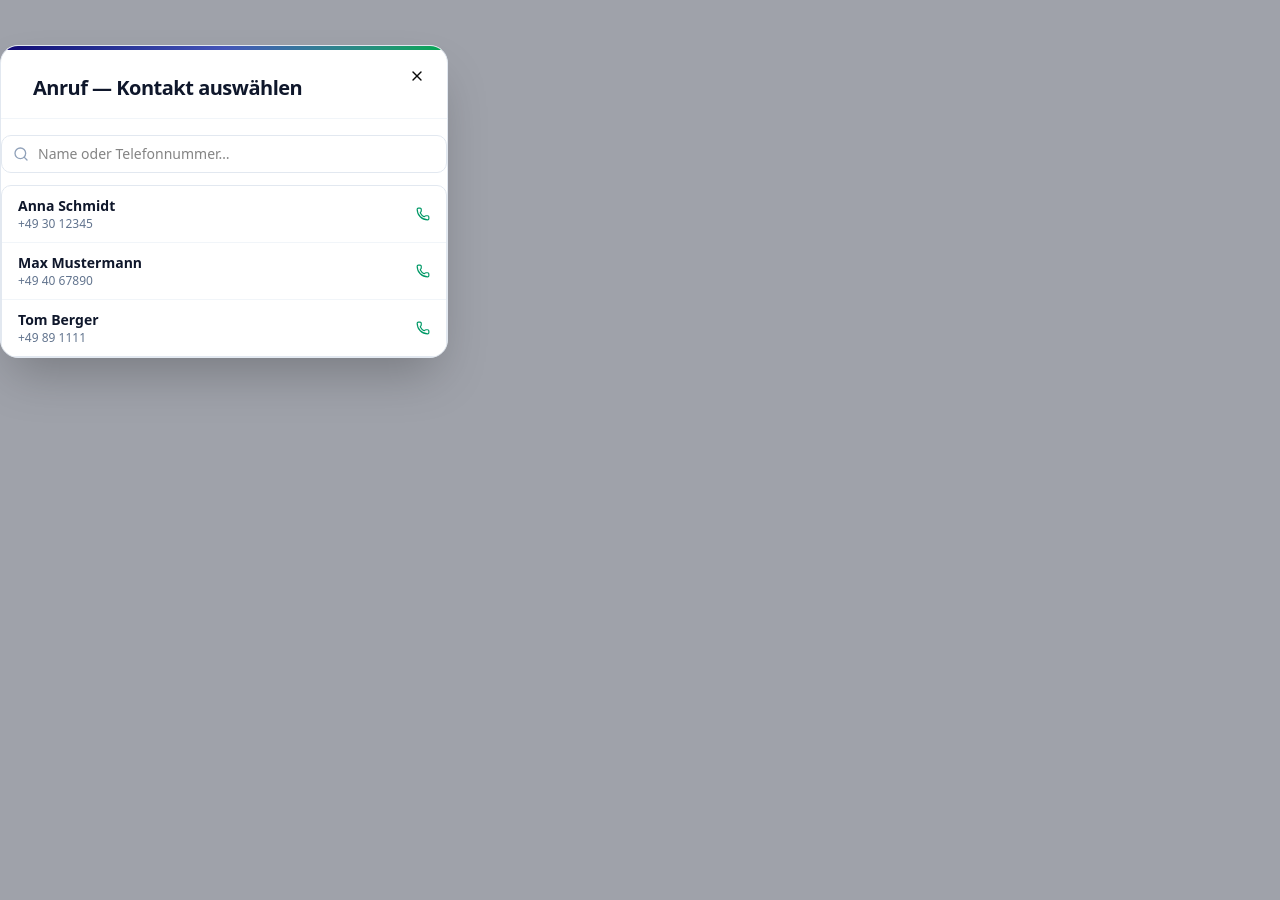
it: ContactPickerDialog › clears query on X-button click
The image size is (1280, 900).
Type "muster" into the field with test id "contact-picker-input" at (224, 154), box [1,135,447,173]
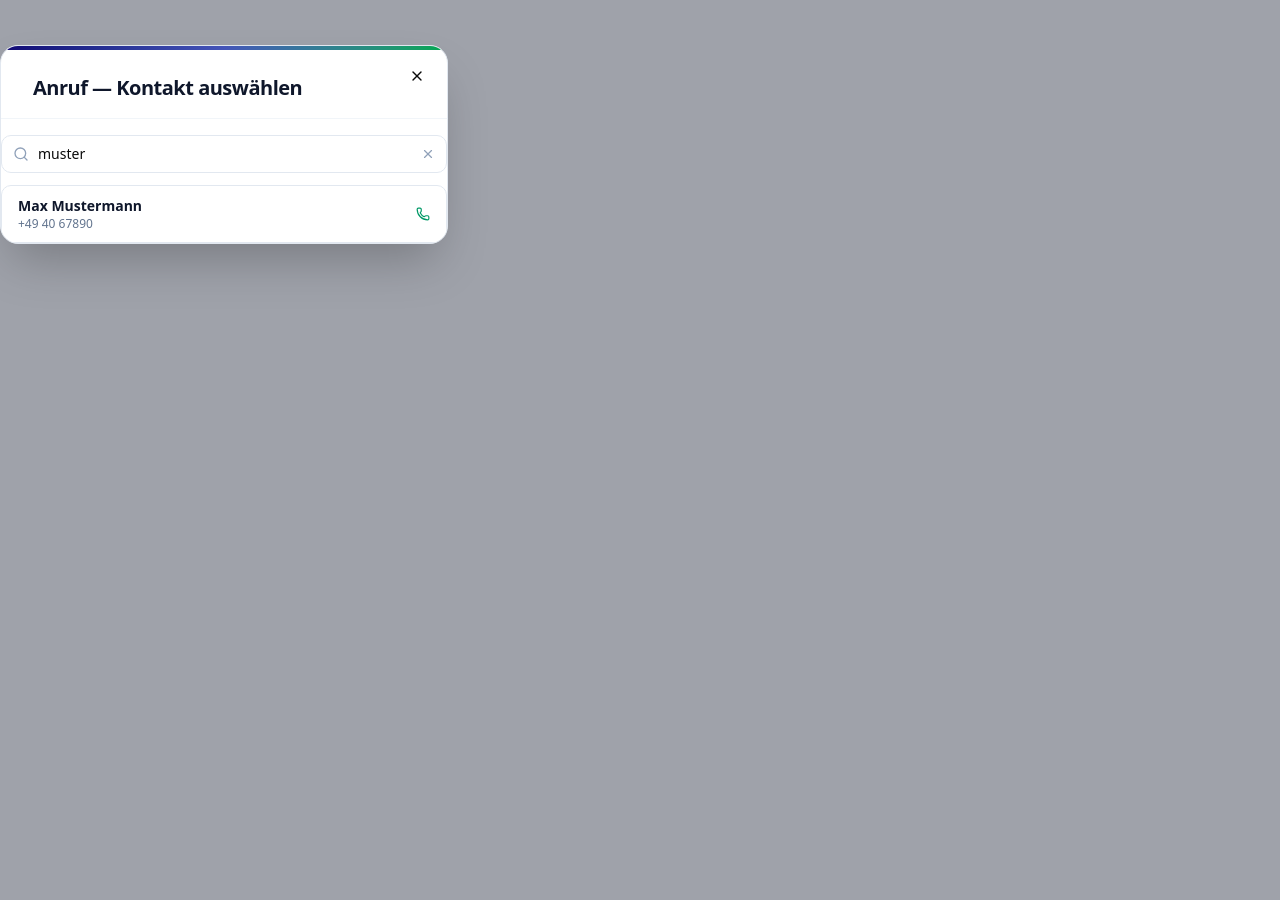
Click the button with test id "contact-picker-clear" at (428, 154), box [417,143,439,165]
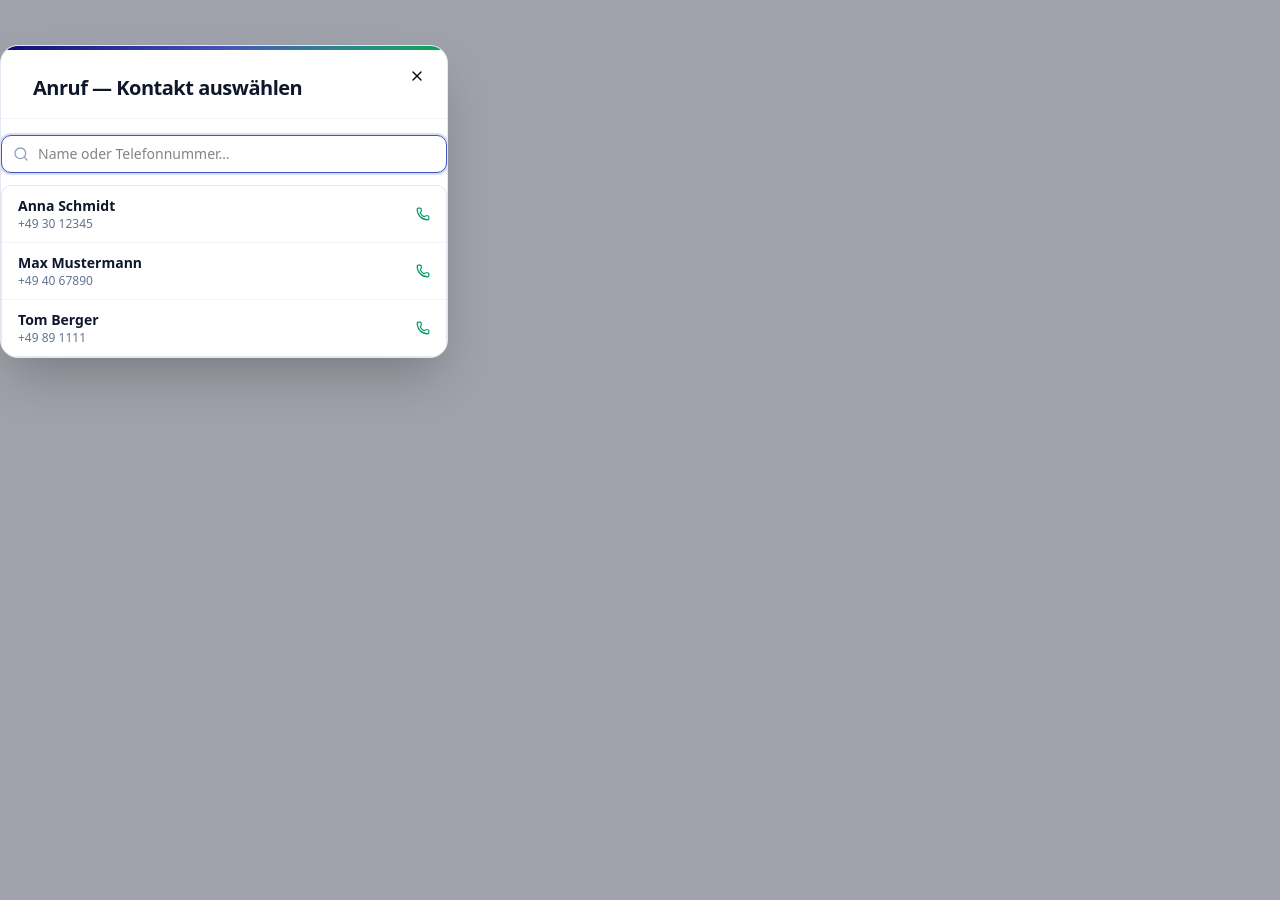
Result: the field with test id "contact-picker-input" is empty at [1,135,447,173]
